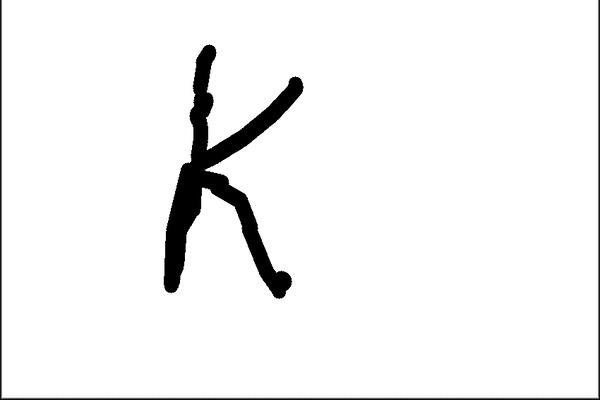K: (159, 38, 316, 308)
